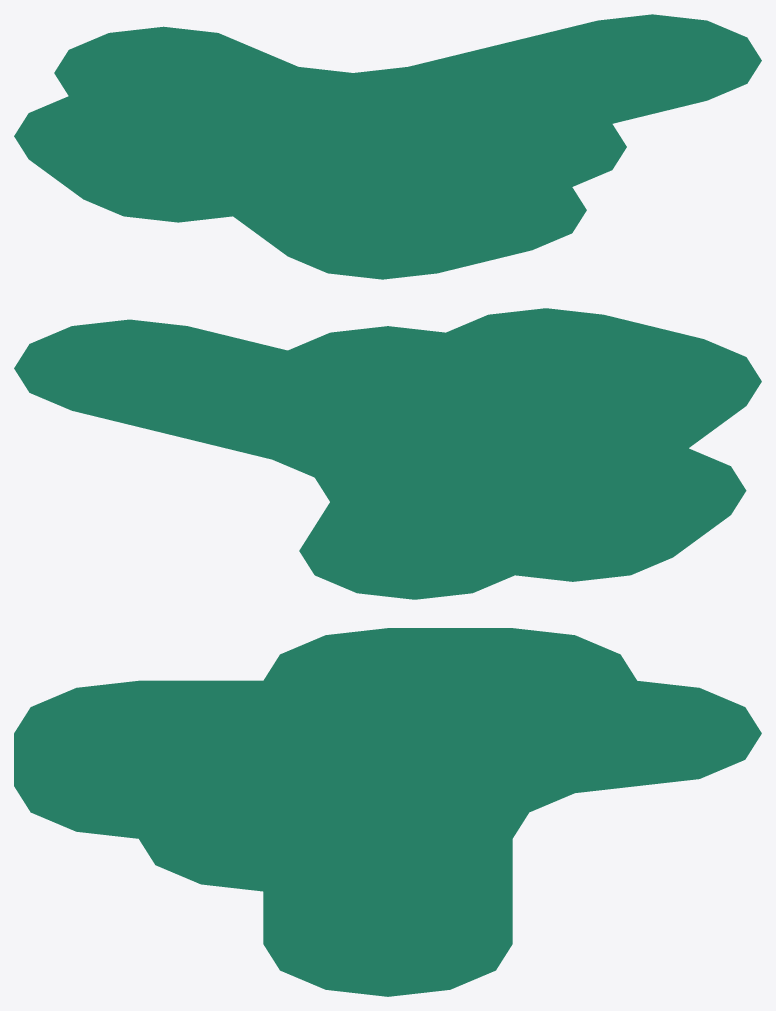
Rendered from sv_patch-grass-large.glb.
3 views of the same model, one above another, from view 1: azimuth 30°, elevation 25°; view 2: azimuth 150°, elevation 25°; view 3: azimuth 270°, elevation 25° (orthographic). The views are drawn at different scales.
Visible parts, largest first — view 1: patch-grass-large; view 2: patch-grass-large; view 3: patch-grass-large.
Boxes of the visible parts, box(x1,y1,x2,y2) form: patch-grass-large: box(14, 14, 761, 279); patch-grass-large: box(14, 308, 761, 599); patch-grass-large: box(14, 628, 761, 996).
Size of the model in its own units: 1.4 by 0 by 1.2.
1 material, 1 textured.
